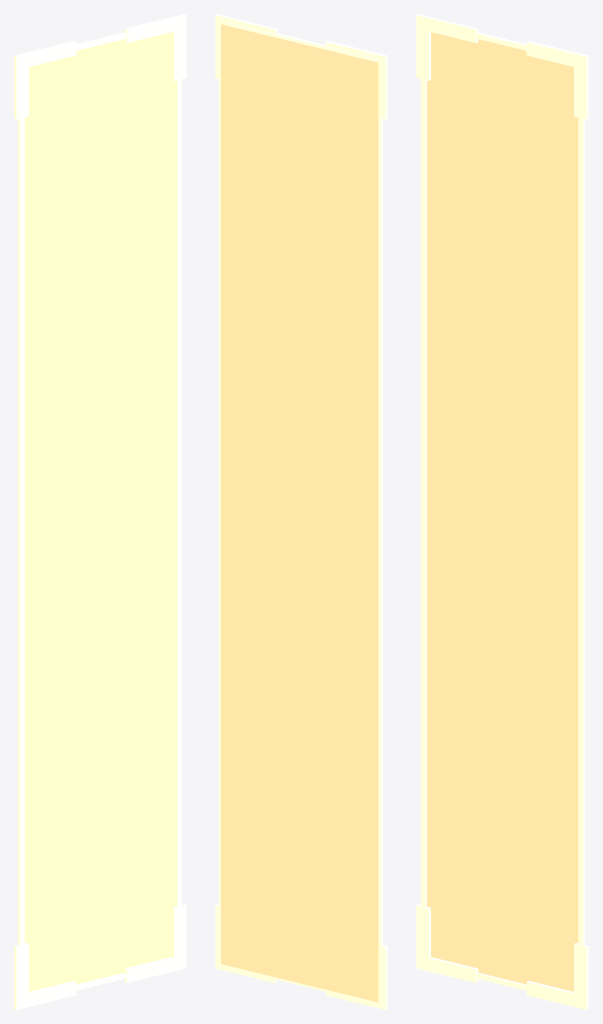
File: slot_outline_4hp.glb
3 views of the same model, side by side, from view 1: azimuth 30°, elevation 25°; view 2: azimuth 150°, elevation 25°; view 3: azimuth 330°, elevation 25° (orthographic).
Parts seen in each view (by area): view 1: SlotOutline_Fill, SlotOutline_Edge, SlotOutline_Corner3, SlotOutline_Corner0, SlotOutline_Corner2, SlotOutline_Corner1; view 2: SlotOutline_Fill, SlotOutline_Edge, SlotOutline_Corner3, SlotOutline_Corner0, SlotOutline_Corner2, SlotOutline_Corner1; view 3: SlotOutline_Fill, SlotOutline_Edge, SlotOutline_Corner2, SlotOutline_Corner1, SlotOutline_Corner3, SlotOutline_Corner0.
Part boxes in pixels (x1,y1,x2,y2): SlotOutline_Fill: [24, 32, 175, 991]; SlotOutline_Edge: [18, 32, 181, 990]; SlotOutline_Corner3: [14, 41, 76, 119]; SlotOutline_Corner0: [14, 943, 76, 1009]; SlotOutline_Corner2: [124, 14, 186, 80]; SlotOutline_Corner1: [124, 904, 186, 982]; SlotOutline_Fill: [221, 24, 378, 1002]; SlotOutline_Edge: [219, 20, 382, 1004]; SlotOutline_Corner3: [325, 41, 387, 119]; SlotOutline_Corner0: [325, 945, 387, 1009]; SlotOutline_Corner2: [215, 14, 277, 78]; SlotOutline_Corner1: [215, 904, 277, 982]; SlotOutline_Fill: [427, 32, 578, 991]; SlotOutline_Edge: [421, 32, 584, 990]; SlotOutline_Corner2: [526, 41, 588, 119]; SlotOutline_Corner1: [526, 943, 588, 1009]; SlotOutline_Corner3: [416, 14, 478, 80]; SlotOutline_Corner0: [416, 904, 478, 982].
Bounding box in the file's own units: 0.2152 × 1.15 × 0.006.
